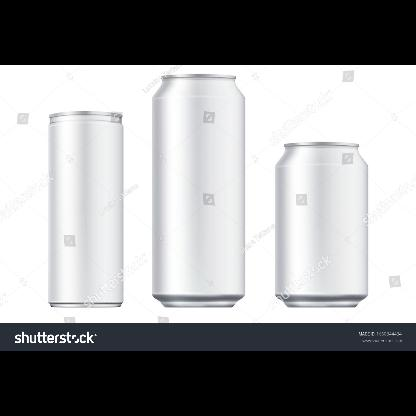Tin_Can: (146, 69, 250, 310), (44, 109, 130, 317), (270, 136, 372, 310)
